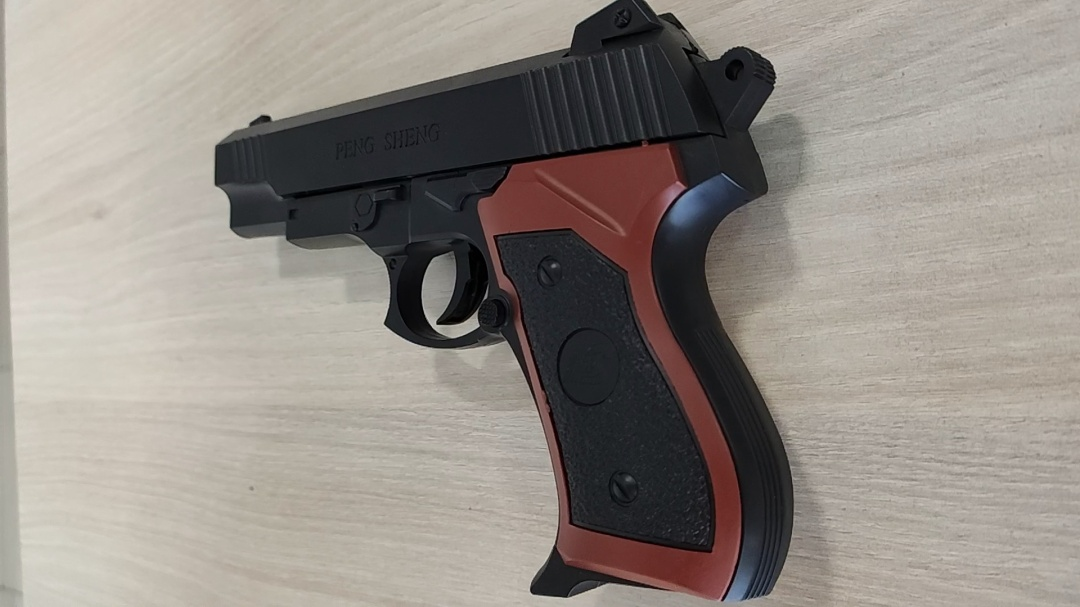gun: (475, 159, 555, 251)
